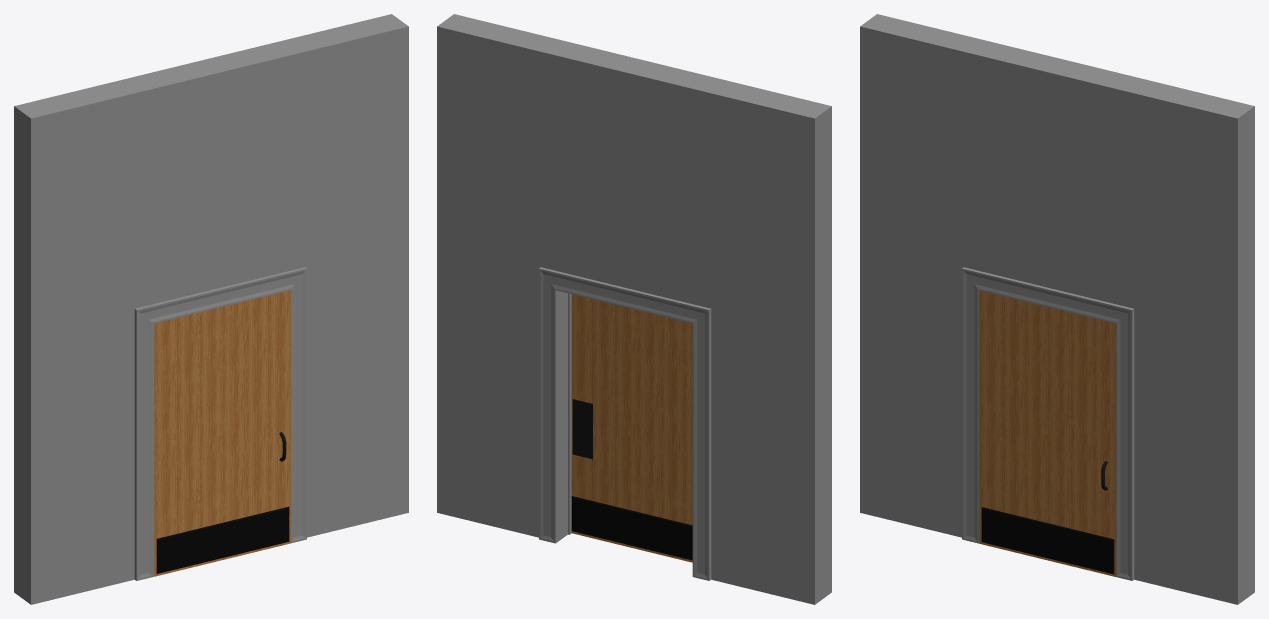
Rendered from DarkwoodDoor.FBX.
The picture shows the model from 3 angles, left to right: view 1: azimuth 30°, elevation 25°; view 2: azimuth 150°, elevation 25°; view 3: azimuth 330°, elevation 25°; orthographic projection.
Parts seen in each view (by area): view 1: Door Wall, Door; view 2: Door Wall, Door; view 3: Door Wall, Door.
Part boxes in pixels (left/top/right/bottom): Door Wall: left=14, top=14, right=408, bottom=604; Door: left=154, top=290, right=291, bottom=576; Door Wall: left=437, top=14, right=831, bottom=604; Door: left=571, top=294, right=692, bottom=562; Door Wall: left=860, top=14, right=1254, bottom=604; Door: left=979, top=290, right=1116, bottom=576.
Bounding box in the file's own units: 128 × 158 × 14.62.
5 materials, 1 textured.
